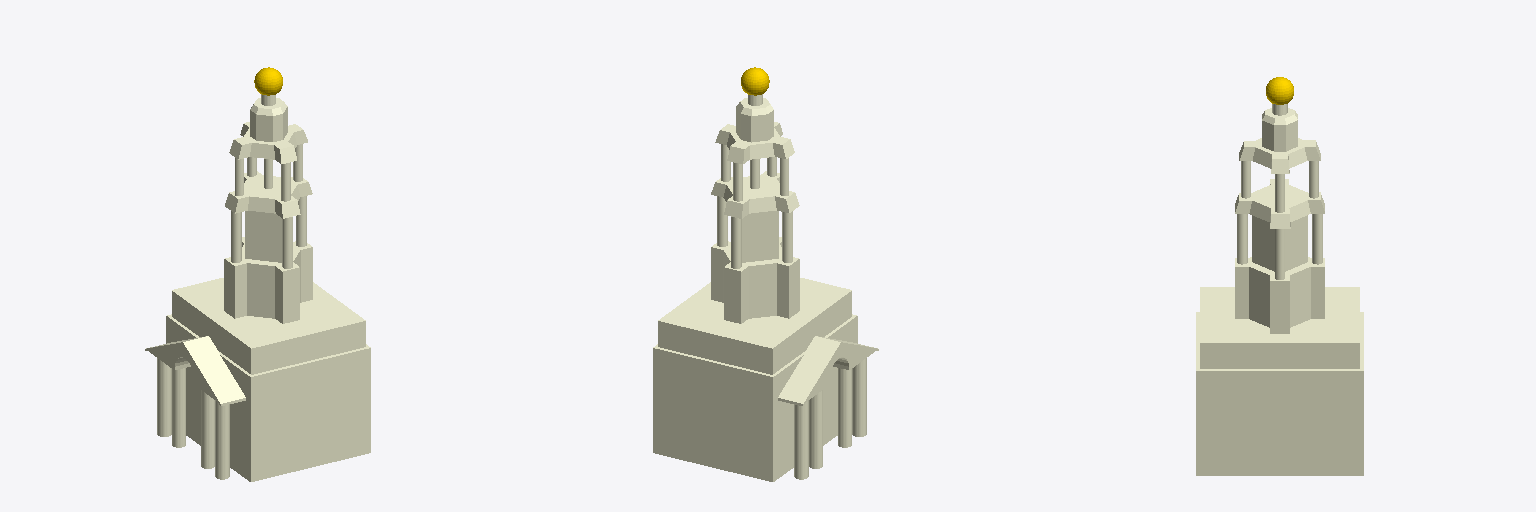
The model's file is BCityHall2.obj.
The picture shows the model from 3 angles: view 1: azimuth 30°, elevation 25°; view 2: azimuth 150°, elevation 25°; view 3: azimuth 270°, elevation 25°; orthographic projection.
Parts seen in each view (by area): view 1: BCityHall2; view 2: BCityHall2; view 3: BCityHall2.
Part boxes in pixels (x1,y1,x2,y2): BCityHall2: (145,67,370,481); BCityHall2: (653,67,878,481); BCityHall2: (1196,77,1363,475).
Size of the model in its own units: 5.82 by 14 by 5.8.